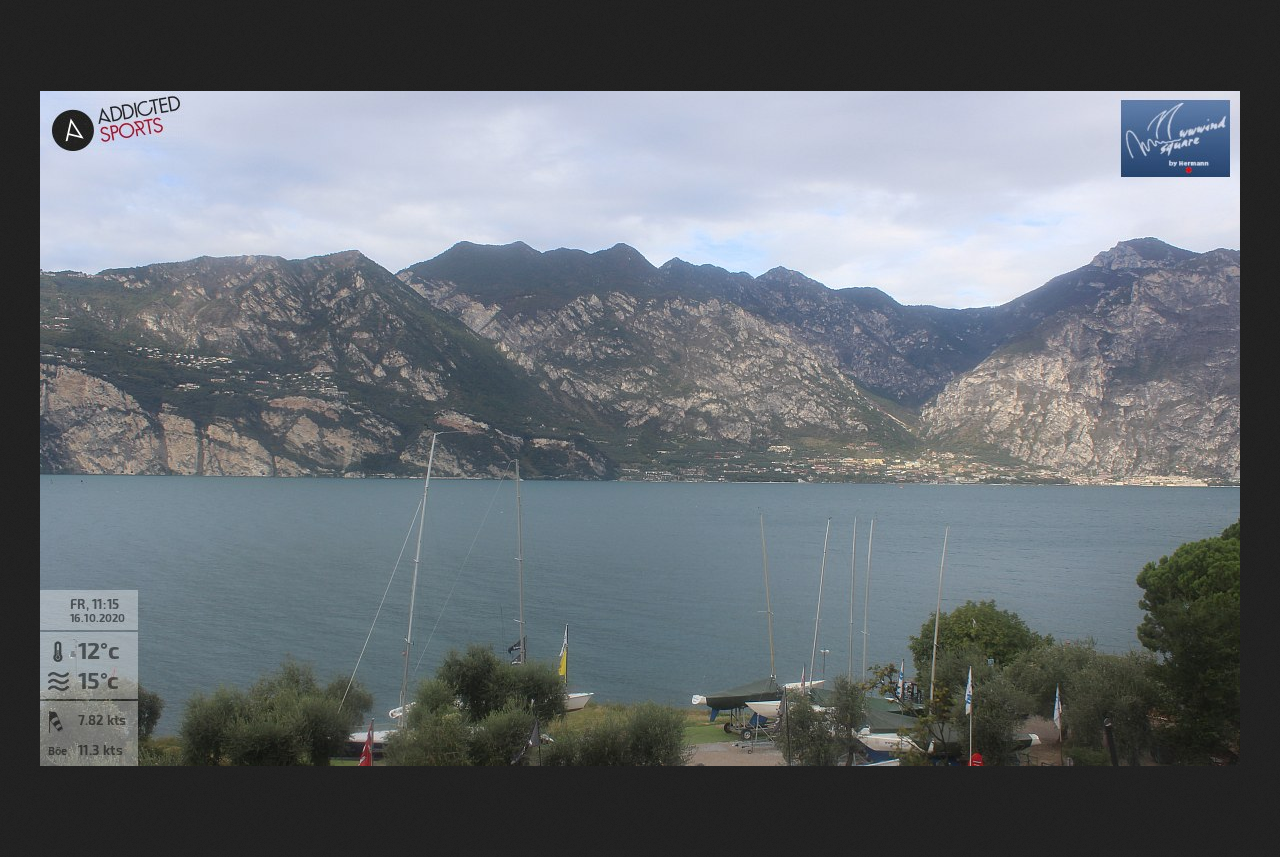maybe: (508, 632, 530, 655)
no: (1052, 674, 1068, 735), (963, 661, 977, 718), (556, 619, 574, 652), (556, 641, 571, 677)
